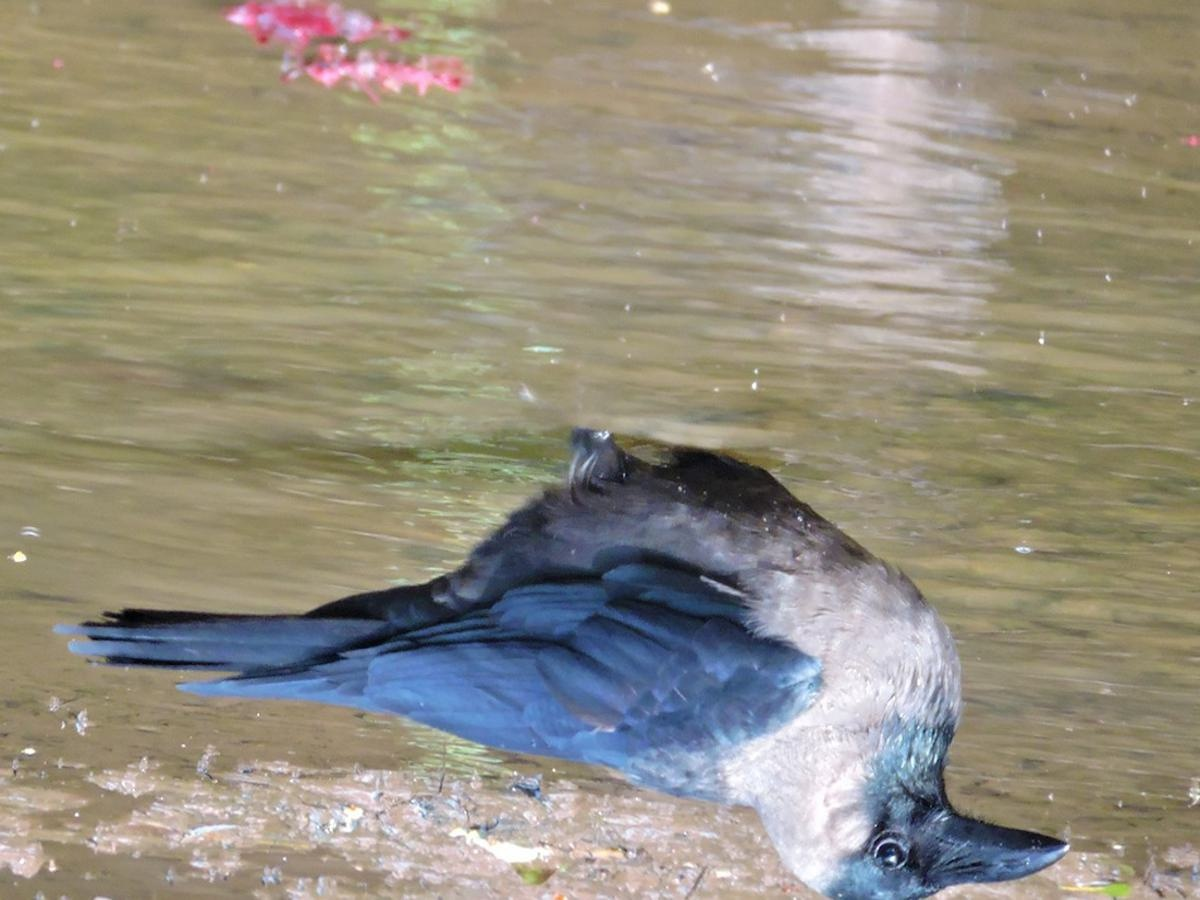crow: (40, 433, 1083, 897)
